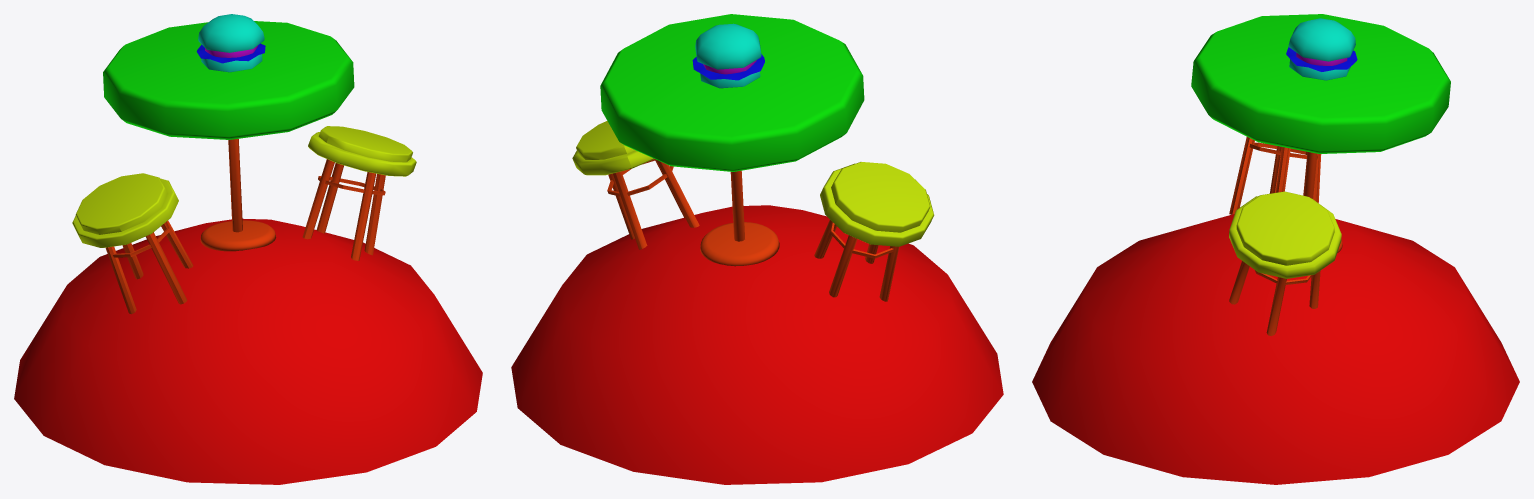
The model's file is Restaurante.fbx.
3 views of the same model, side by side, from view 1: azimuth 30°, elevation 25°; view 2: azimuth 150°, elevation 25°; view 3: azimuth 270°, elevation 25° (orthographic). The views are drawn at different scales.
Visible parts, largest first — view 1: Bay of Flavor; view 2: Bay of Flavor; view 3: Bay of Flavor.
Boxes of the visible parts, <box> form: Bay of Flavor: <box>14,14,482,484</box>; Bay of Flavor: <box>511,14,1003,484</box>; Bay of Flavor: <box>1032,14,1519,484</box>.
Bounding box in the file's own units: 2.71 × 2.22 × 2.71.
